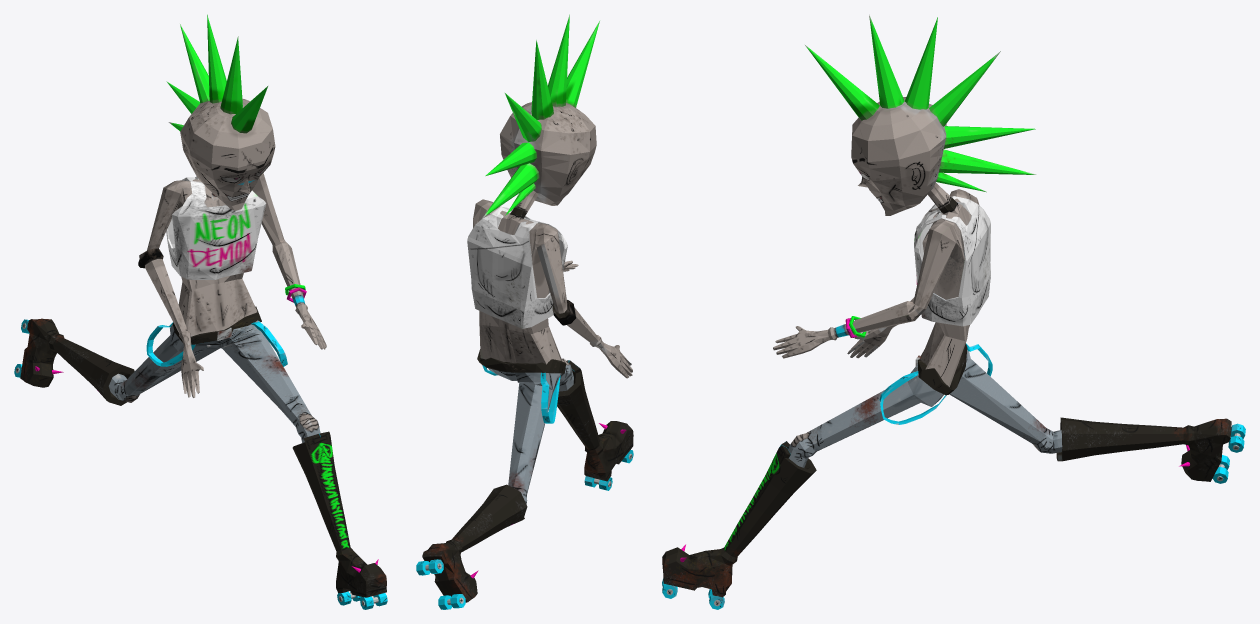
File: punkAnimation_000037.obj
The picture shows the model from 3 angles, left to right: view 1: azimuth 30°, elevation 25°; view 2: azimuth 150°, elevation 25°; view 3: azimuth 270°, elevation 25°; orthographic projection. The views are drawn at different scales.
Visible parts, largest first — view 1: Cube.004_Cube.003; view 2: Cube.004_Cube.003; view 3: Cube.004_Cube.003.
Part boxes in pixels (<box>): Cube.004_Cube.003: <box>14,14,387,609</box>; Cube.004_Cube.003: <box>416,14,633,609</box>; Cube.004_Cube.003: <box>662,15,1245,609</box>.
Bounding box in the file's own units: 1.7 × 6.47 × 6.02.
